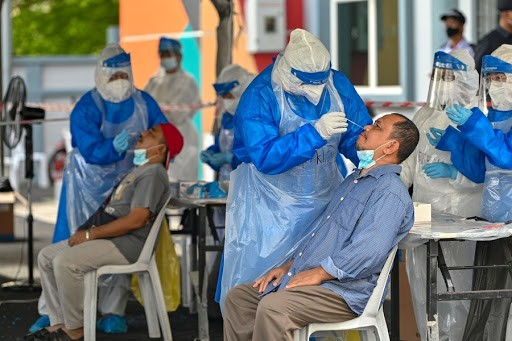Coverall: (223, 64, 360, 306), (56, 88, 153, 341)
Face_Shield: (426, 46, 467, 115), (289, 62, 339, 114), (475, 52, 512, 120), (96, 50, 135, 104)
Gloves: (308, 109, 350, 151), (420, 160, 459, 185), (445, 103, 472, 129), (110, 129, 129, 158), (424, 125, 446, 147)
mask_weared_incorrect: (354, 115, 396, 167), (130, 126, 160, 168)
with_mask: (431, 68, 458, 109), (483, 71, 506, 108), (104, 71, 129, 101), (302, 81, 327, 107)
